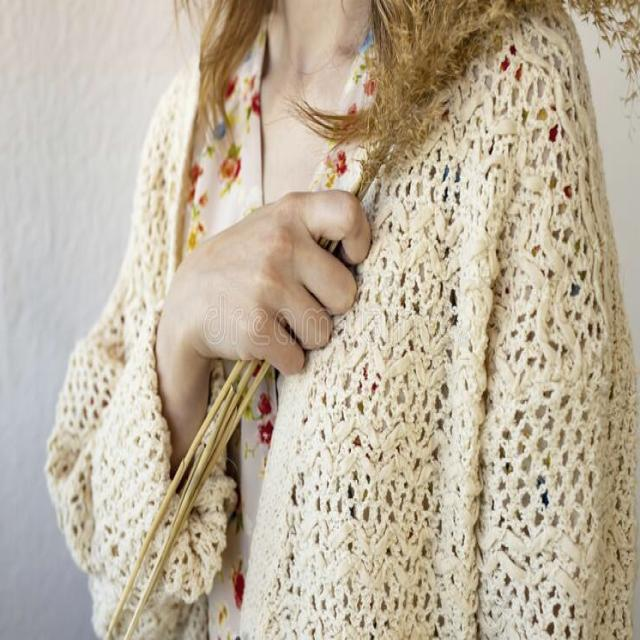clothes: (166, 47, 621, 640)
